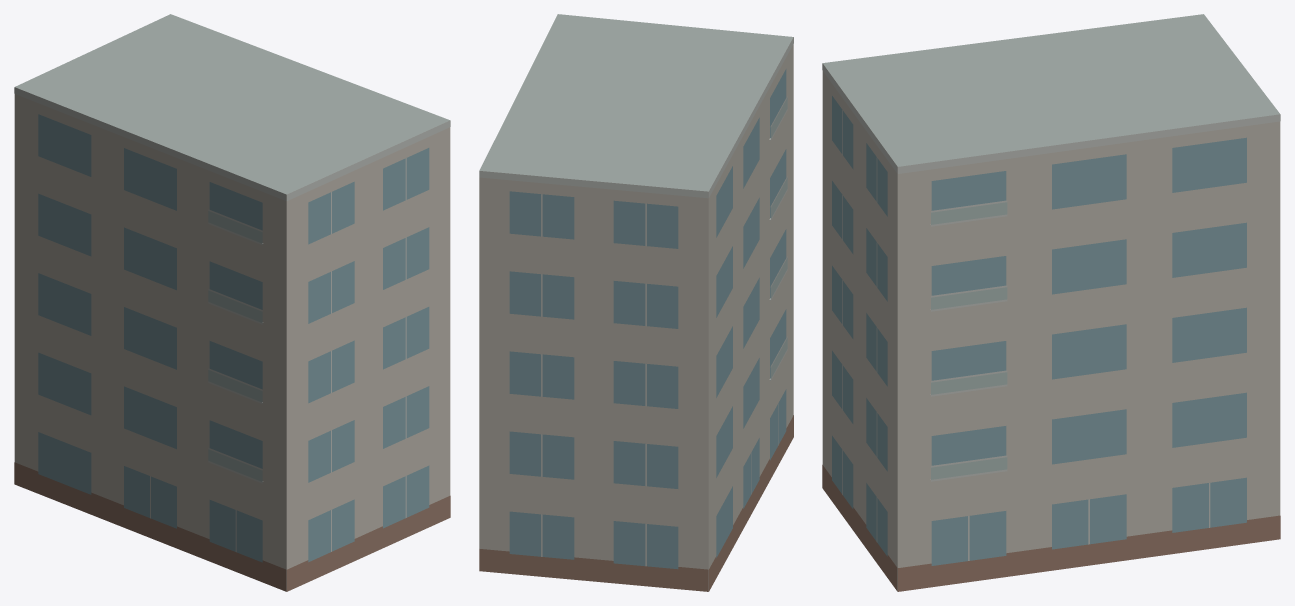
File: survey-upis-32910068.glb
3 renders of one model, left to right at view 1: azimuth 30°, elevation 25°; view 2: azimuth 150°, elevation 25°; view 3: azimuth 270°, elevation 25°, orthographic. The views are drawn at different scales.
Visible parts, largest first — view 1: survey-upis-32910068.tmp; view 2: survey-upis-32910068.tmp; view 3: survey-upis-32910068.tmp.
Part boxes in pixels (box(x1,y1,x2,y2)): survey-upis-32910068.tmp: box(14, 14, 450, 591); survey-upis-32910068.tmp: box(479, 14, 793, 591); survey-upis-32910068.tmp: box(822, 14, 1280, 591).
Size of the model in its own units: 11.2 by 14.5 by 14.17.
